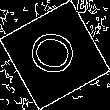O_E: (25, 28, 85, 82)
